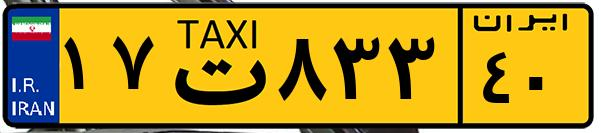0: (525, 38, 570, 115)
1: (57, 26, 110, 100)
3: (385, 28, 445, 110), (330, 28, 385, 110)
4: (475, 38, 525, 113)
7: (110, 28, 158, 98)
8: (270, 28, 330, 110)
ت: (158, 12, 270, 120)
